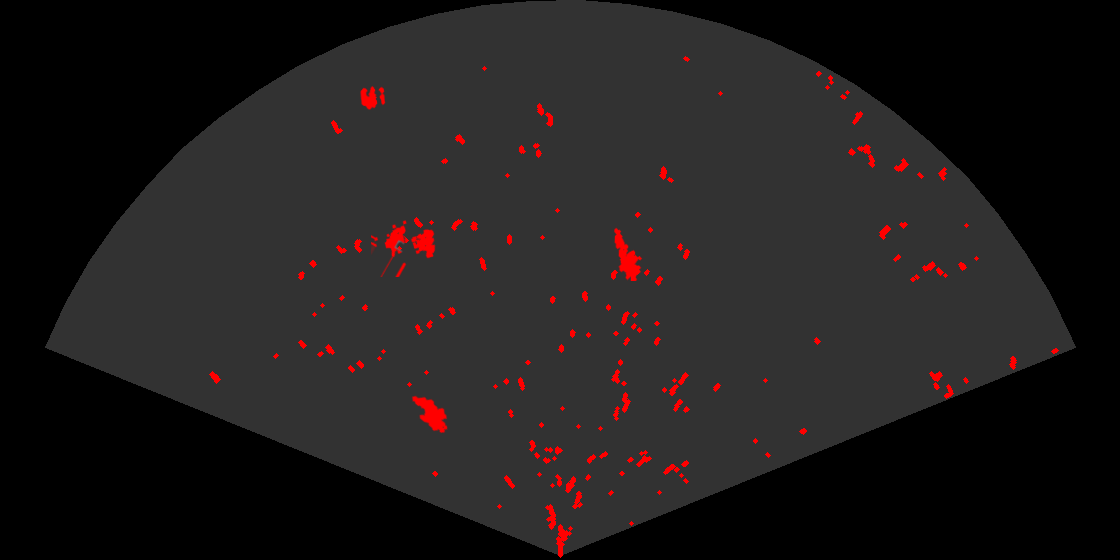AUV: (410, 394, 449, 435)
ball: (359, 84, 387, 111)
cage: (371, 219, 437, 277)
frogman: (613, 226, 644, 281)
